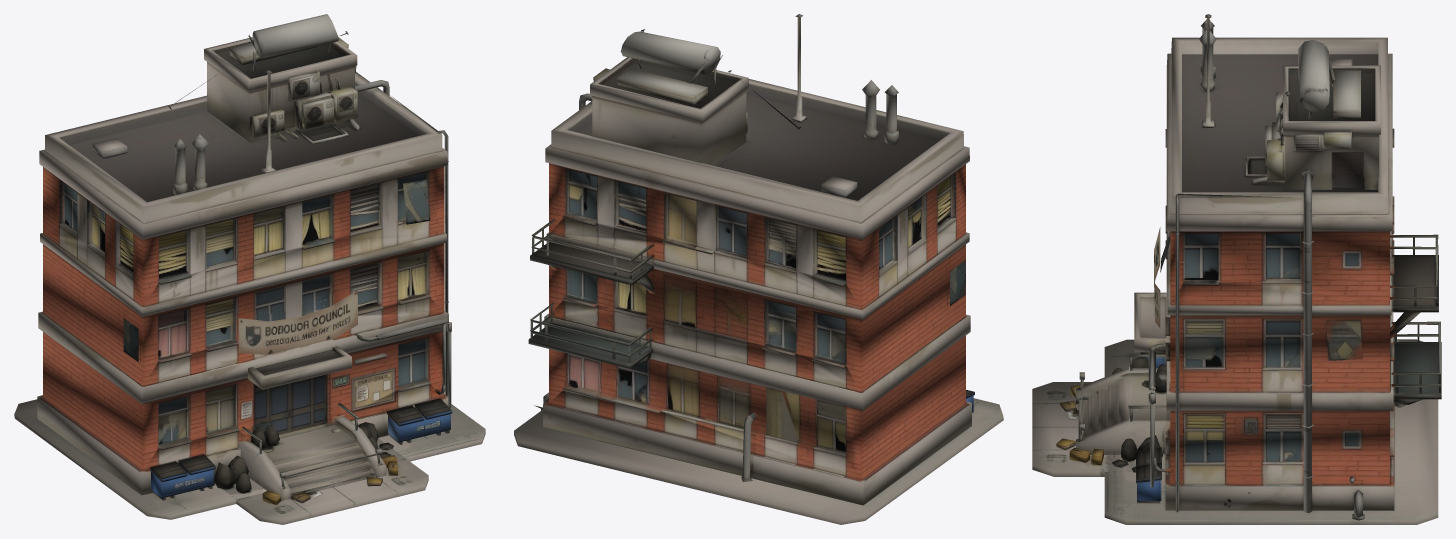
Rendered from city+hall+building+3d+model.glb.
3 renders of one model, left to right at view 1: azimuth 30°, elevation 25°; view 2: azimuth 150°, elevation 25°; view 3: azimuth 270°, elevation 25°, orthographic. The views are drawn at different scales.
Visible parts, largest first — view 1: tripo_node_2b8d8865-e6c5-44ba-bbd6-b835f016d93e; view 2: tripo_node_2b8d8865-e6c5-44ba-bbd6-b835f016d93e; view 3: tripo_node_2b8d8865-e6c5-44ba-bbd6-b835f016d93e.
Boxes of the visible parts, x1=… form: tripo_node_2b8d8865-e6c5-44ba-bbd6-b835f016d93e: x1=14, y1=14, x2=485, y2=524; tripo_node_2b8d8865-e6c5-44ba-bbd6-b835f016d93e: x1=514, y1=14, x2=1003, y2=524; tripo_node_2b8d8865-e6c5-44ba-bbd6-b835f016d93e: x1=1032, y1=14, x2=1441, y2=524.
Bounding box in the file's own units: 0.9551 × 0.998 × 0.8926.
1 material, 1 textured.
